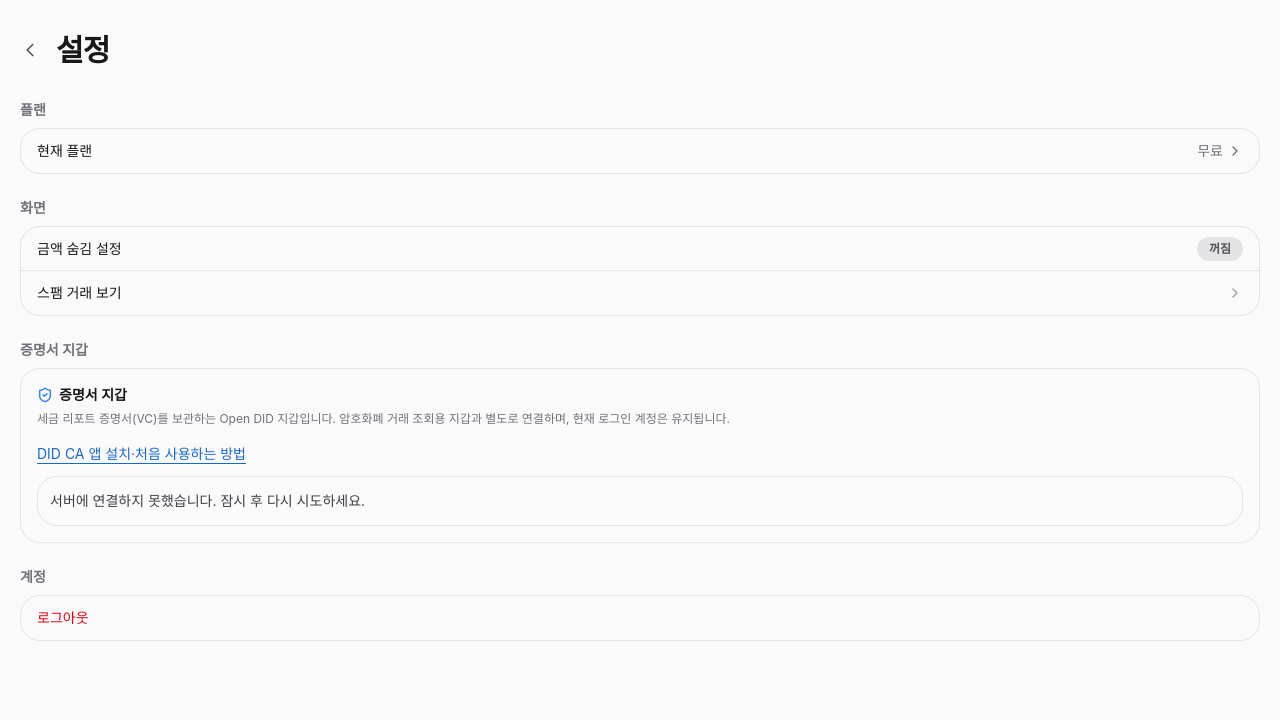
it: 설정 화면 › 로그아웃이 실패하면 화면에 남아 실패를 그대로 보여준다
Click the button "로그아웃" at (63, 618), box [21,596,1259,640]
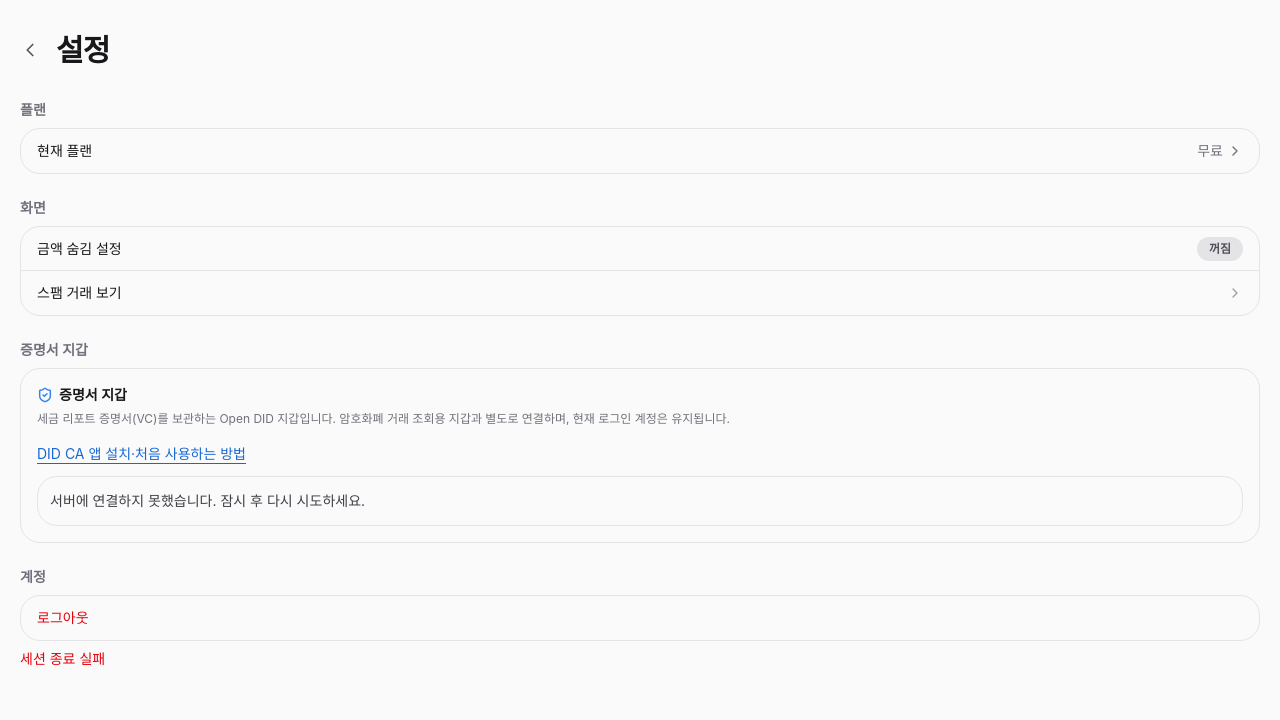
expect the text "세션 종료 실패" is shown: met, box [20,650,105,667]
